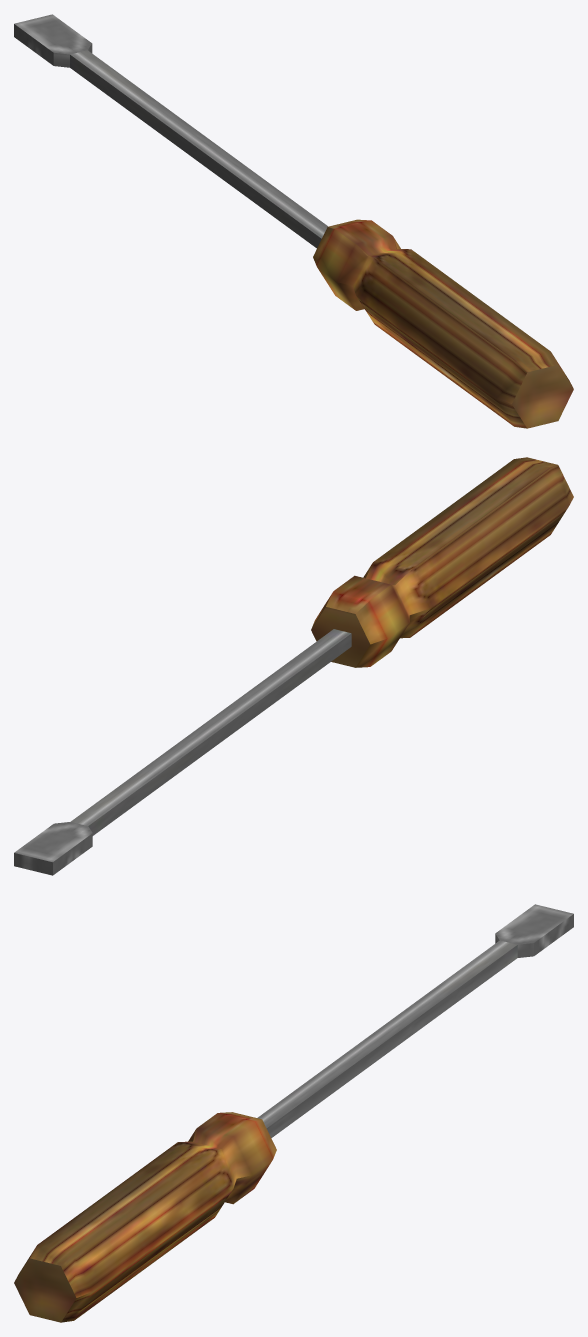
Rendered from item_screwdriver.dae.
The picture shows the model from 3 angles, top to bottom: view 1: azimuth 30°, elevation 25°; view 2: azimuth 150°, elevation 25°; view 3: azimuth 330°, elevation 25°; orthographic projection.
Visible parts, largest first — view 1: polySurface1; view 2: polySurface1; view 3: polySurface1.
Boxes of the visible parts, left/top/right/bottom form: polySurface1: left=14, top=14, right=573, bottom=428; polySurface1: left=14, top=457, right=573, bottom=875; polySurface1: left=14, top=904, right=573, bottom=1322.
Size of what is drawn, in the model's own units: 0.0355 by 0.0307 by 0.4261.
